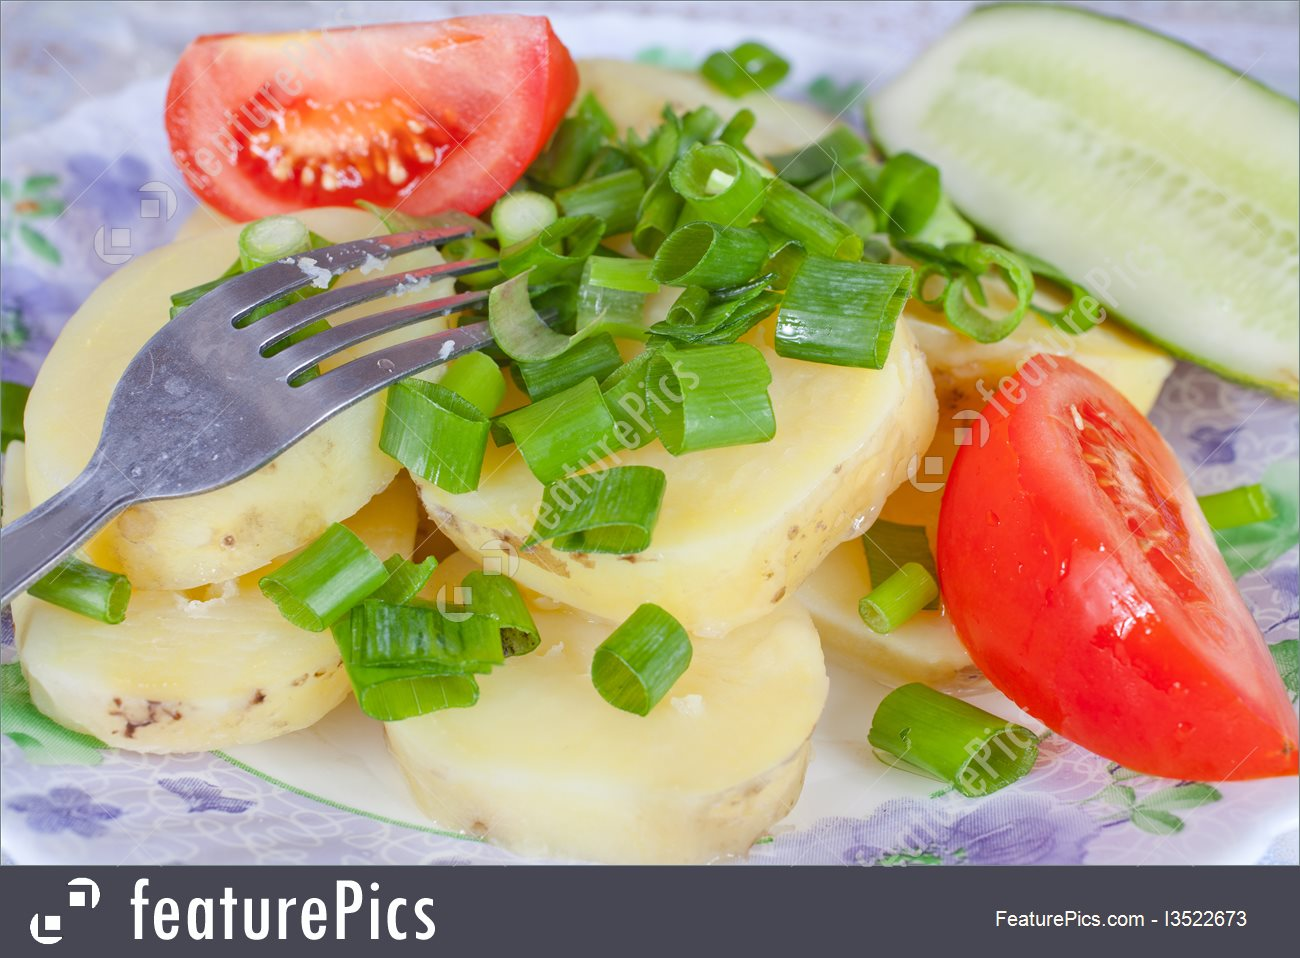boiled potatoes: (48, 240, 869, 837)
